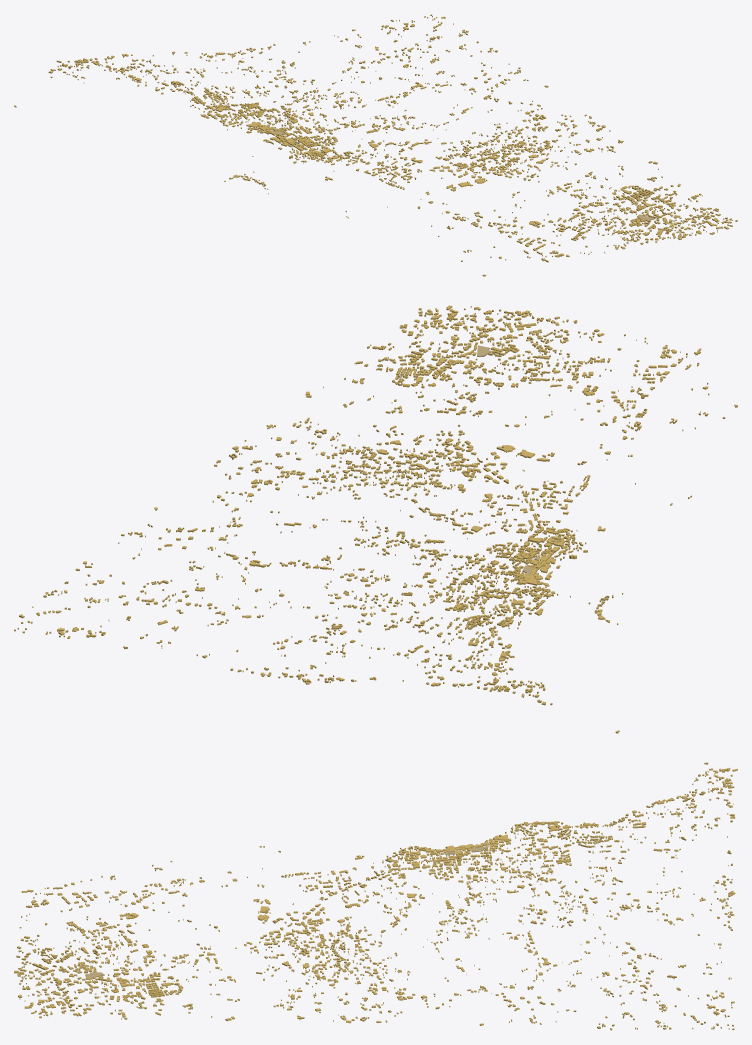
The model's file is buildings.glb.
3 renders of one model, top to bottom at view 1: azimuth 30°, elevation 25°; view 2: azimuth 150°, elevation 25°; view 3: azimuth 270°, elevation 25°, orthographic. The views are drawn at different scales.
Parts seen in each view (by area): view 1: buildings; view 2: buildings; view 3: buildings.
Part boxes in pixels (<box>): buildings: <box>14,14,737,276</box>; buildings: <box>14,305,737,733</box>; buildings: <box>14,762,737,1030</box>.
Bounding box in the file's own units: 3580 × 366 × 4454.
